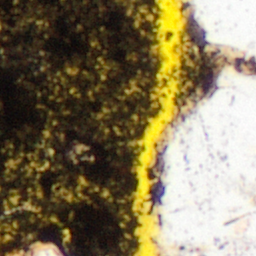cement_matrix: (0, 0, 158, 255), (178, 23, 216, 102), (150, 169, 160, 200)
cracks: (133, 0, 255, 255), (177, 22, 217, 103), (149, 168, 161, 201)
gravel_crushed_stones: (156, 67, 255, 255), (188, 0, 255, 58), (35, 248, 57, 255)
